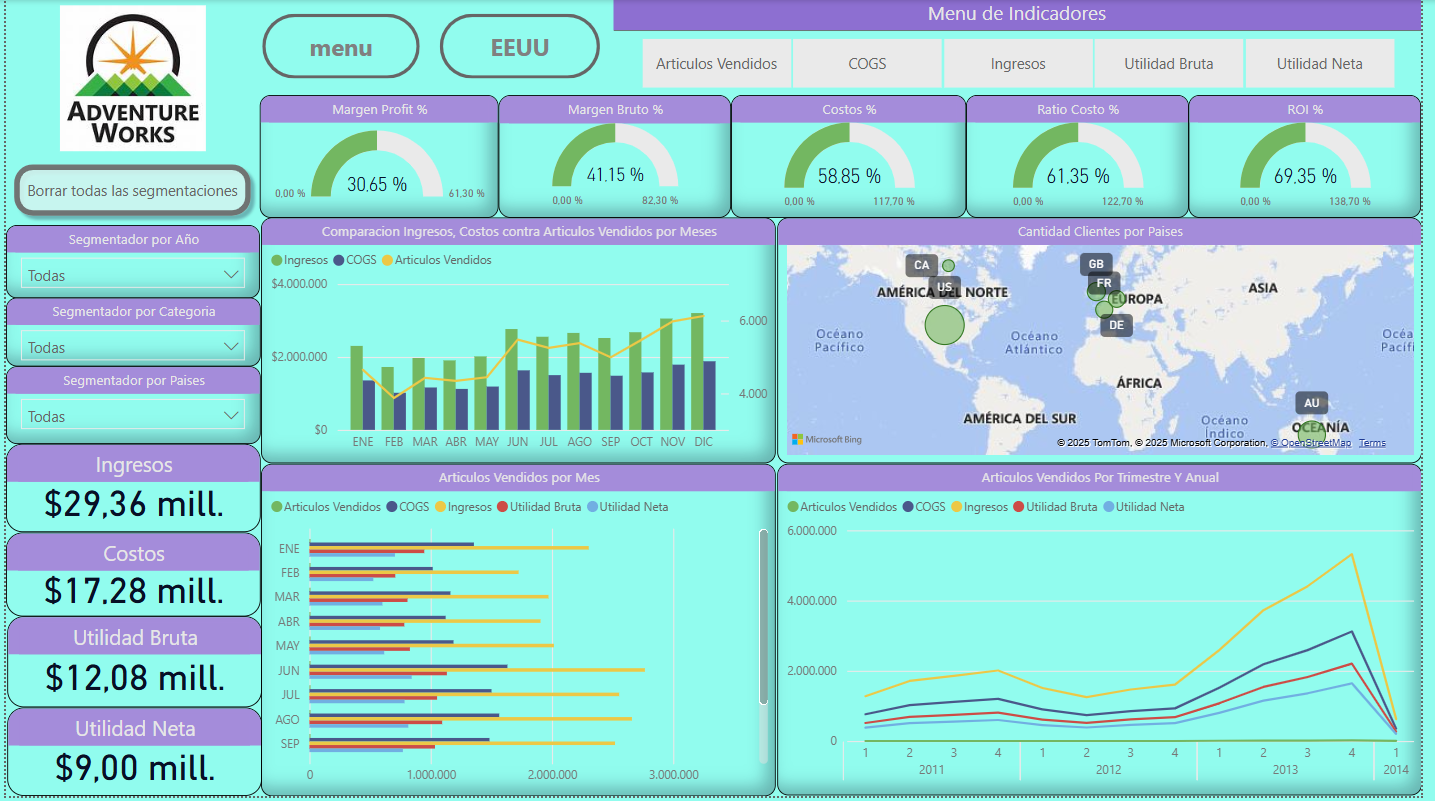

This screenshot's page, from the dashboard's own definition file:
{"tool":"powerbi","page":{"name":"Reporte Principal","canvas":[1280,720],"ordinal":1},"visuals":[{"type":"slicer","title":"Menu de Indicadores","fields":{"Values":["Menú de Intervalos.Menú de Intervalos"]},"box":[550,0,730,85.7],"z":0},{"type":"slicer","title":"Segmentador por Año","fields":{"Values":["DimDate.CalendarYear"]},"box":[0,203,229.9,66],"z":1000},{"type":"slicer","title":"Segmentador por Categoria","fields":{"Values":["DimProduct.ProductCategoryName"]},"box":[0,268.8,230,62.5],"z":2000},{"type":"actionButton","box":[392.5,12.5,145,58.8],"z":3000},{"type":"actionButton","box":[231.2,12.5,142.5,58.8],"z":4000},{"type":"gauge","fields":{"Y":["Medidas.ROI %"]},"box":[1070,85.7,210,111.4],"z":5000},{"type":"image","box":[0,0,230,141.4],"z":6000},{"type":"gauge","fields":{"Y":["Medidas.Margen Profit %"]},"box":[230,85.7,215.7,111.4],"z":7000},{"type":"gauge","fields":{"Y":["Medidas.Ratio Costo %"]},"box":[868.6,85.7,201.4,111.4],"z":8000},{"type":"gauge","fields":{"Y":["Medidas.Margen Bruto %"]},"box":[445.7,85.7,210,111.4],"z":9000},{"type":"gauge","title":"Costos %","fields":{"Y":["Medidas.COGS %"]},"box":[655.7,85.7,212.9,111.4],"z":10000},{"type":"card","title":"Ingresos","fields":{"Values":["Medidas.Ingresos"]},"box":[0,401.2,230,80],"z":11000},{"type":"card","title":"Costos","fields":{"Values":["Medidas.COGS"]},"box":[0,481.2,230,76.2],"z":12000},{"type":"card","title":"Utilidad Bruta","fields":{"Values":["Medidas.Utilidad Bruta"]},"box":[1.2,557.5,230,82.5],"z":13000},{"type":"card","title":"Utilidad Neta","fields":{"Values":["Medidas.Utilidad Neta"]},"box":[1.2,640,230,80],"z":14000},{"type":"map","title":"Cantidad Clientes por Paises","fields":{"Size":["Medidas.Cantidad Clientes Unicos"],"Category":["DimCustomer.CountryRegionCode"]},"box":[697.3,197.3,583,222.4],"z":15000},{"type":"lineChart","title":"Articulos Vendidos Por Trimestre Y Anual","fields":{"Y":["Medidas.Articulos Vendidos","Medidas.COGS","Medidas.Ingresos","Medidas.Utilidad Bruta","Medidas.Utilidad Neta"],"Category":["DimDate.CalendarYear","DimDate.CalendarQuarter"]},"box":[697.3,419.6,583,300.3],"z":16000},{"type":"clusteredBarChart","title":"Articulos Vendidos por Mes","fields":{"Y":["Medidas.Articulos Vendidos","Medidas.COGS","Medidas.Ingresos","Medidas.Utilidad Bruta","Medidas.Utilidad Neta"],"Category":["DimDate.Mes"]},"box":[231.1,419.4,465.9,300.8],"z":17000},{"type":"slicer","title":"Segmentador por Paises","fields":{"Values":["DimSalesTerritory.SalesTerritoryCountry"]},"box":[0,331.2,230,70],"z":18000},{"type":"actionButton","box":[0,141.2,228.8,61.2],"z":19000},{"type":"lineClusteredColumnComboChart","title":"Comparacion Ingresos, Costos contra Articulos Vendidos por Meses","fields":{"Category":["DimDate.Mes"],"Y2":["Medidas.Articulos Vendidos"],"Y":["Medidas.Ingresos","Medidas.COGS"]},"box":[231.1,196.9,465.9,222.6],"z":20000}]}

Visuals, with their boxes in screenshot pixels (x1, y1, x2, y2), scaled from the page's 1280x720 canvas onto the 1435x801 screenshot:
"Menu de Indicadores" slicer: crop(617, 0, 1434, 95)
"Segmentador por Año" slicer: crop(0, 226, 258, 299)
"Segmentador por Categoria" slicer: crop(0, 299, 258, 369)
actionButton: crop(440, 14, 603, 79)
actionButton: crop(259, 14, 419, 79)
gauge - Medidas.ROI %: crop(1200, 95, 1434, 219)
image: crop(0, 0, 258, 157)
gauge - Medidas.Margen Profit %: crop(258, 95, 500, 219)
gauge - Medidas.Ratio Costo %: crop(974, 95, 1200, 219)
gauge - Medidas.Margen Bruto %: crop(500, 95, 735, 219)
"Costos %" gauge: crop(735, 95, 974, 219)
"Ingresos" card: crop(0, 446, 258, 535)
"Costos" card: crop(0, 535, 258, 620)
"Utilidad Bruta" card: crop(1, 620, 259, 712)
"Utilidad Neta" card: crop(1, 712, 259, 800)
"Cantidad Clientes por Paises" map: crop(782, 219, 1434, 467)
"Articulos Vendidos Por Trimestre Y Anual" lineChart: crop(782, 467, 1434, 800)
"Articulos Vendidos por Mes" clusteredBarChart: crop(259, 467, 781, 800)
"Segmentador por Paises" slicer: crop(0, 368, 258, 446)
actionButton: crop(0, 157, 257, 225)
"Comparacion Ingresos, Costos contra Articulos Vendidos por Meses" lineClusteredColumnComboChart: crop(259, 219, 781, 467)
